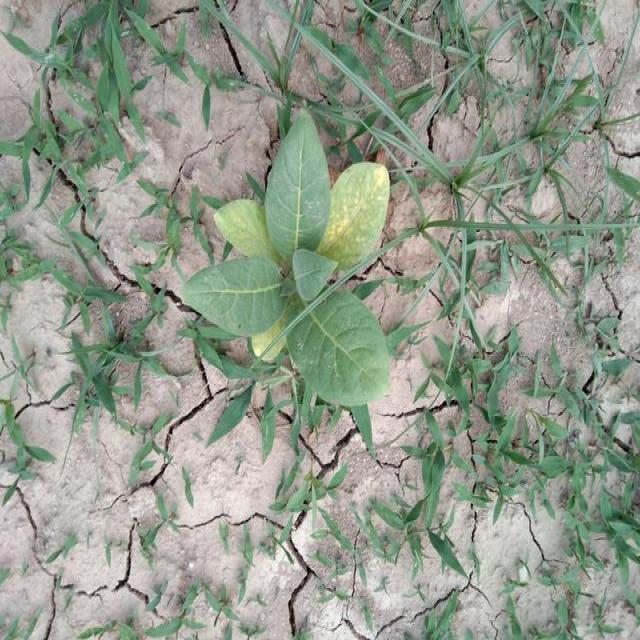crop: (181, 123, 396, 413)
